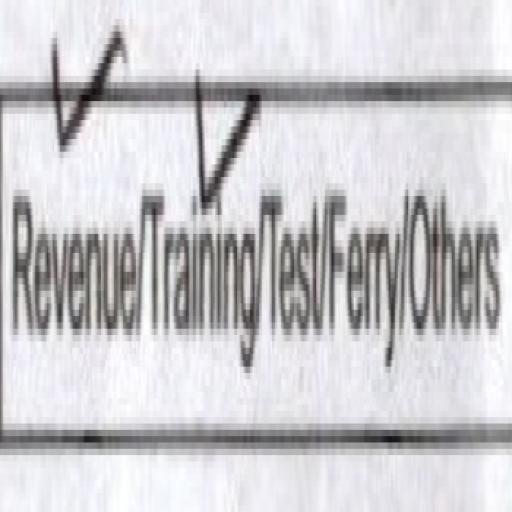check: (0, 0, 140, 488), (143, 0, 262, 487)
